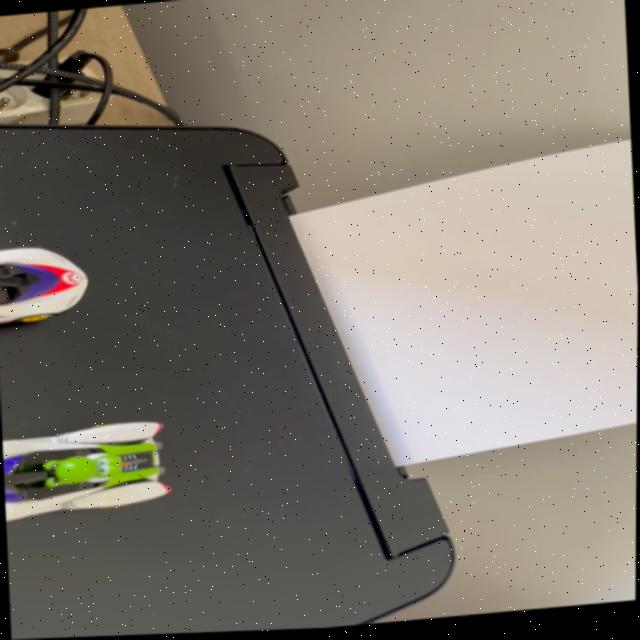mario: (0, 235, 107, 339)
yoshi: (2, 411, 186, 531)
